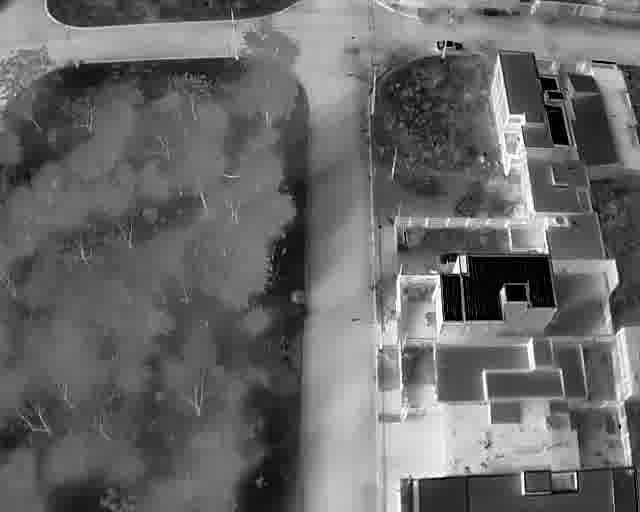car: (434, 251, 461, 267), (435, 39, 463, 51)
